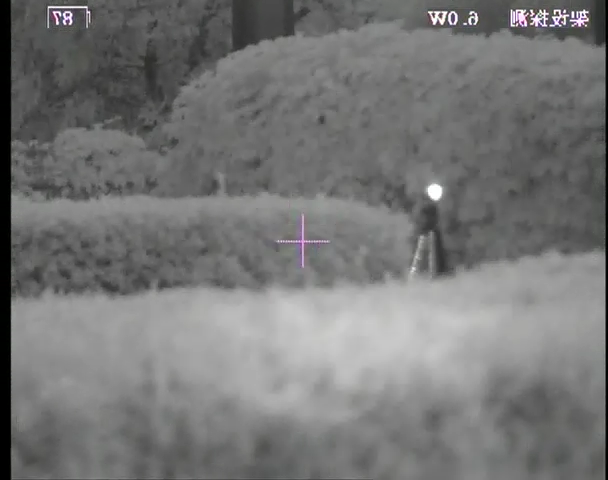my: (426, 183, 443, 201)
